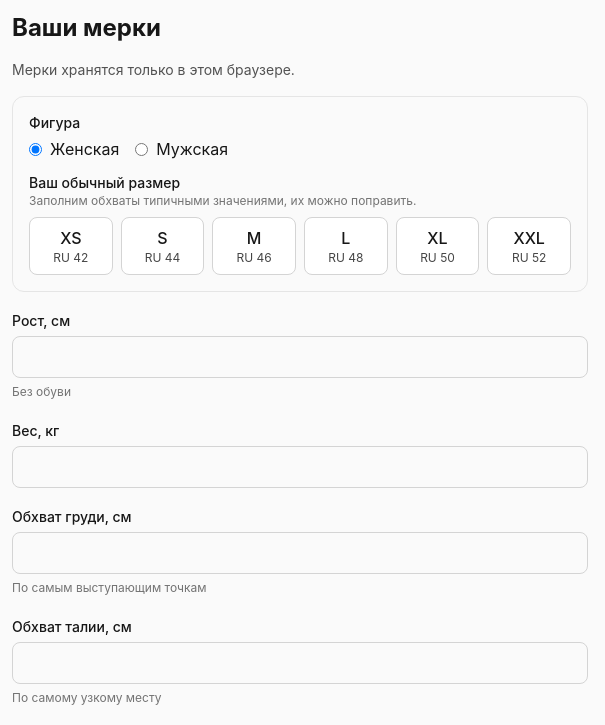
Test: MeasurementsPage: быстрый выбор размера › заполняет обхваты серединами диапазона и показывает диапазон
This screenshot has width=605, height=725.
What coordinates should you click on to do the following:
click the button "M RU 46"
I would click on:
 (254, 246)
Its box is left=212, top=217, right=296, bottom=275.
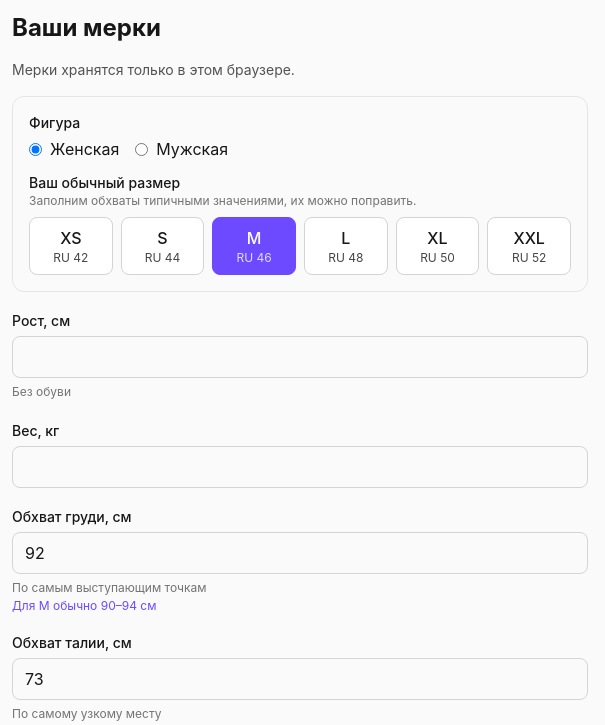
Now the field labelled "Обхват груди" holds "92", box left=12, top=532, right=588, bottom=574
Now the field labelled "Обхват талии" holds "73", box left=12, top=658, right=588, bottom=700
Now the text "Для M обычно 90–94 см" is shown, box left=12, top=598, right=156, bottom=613
